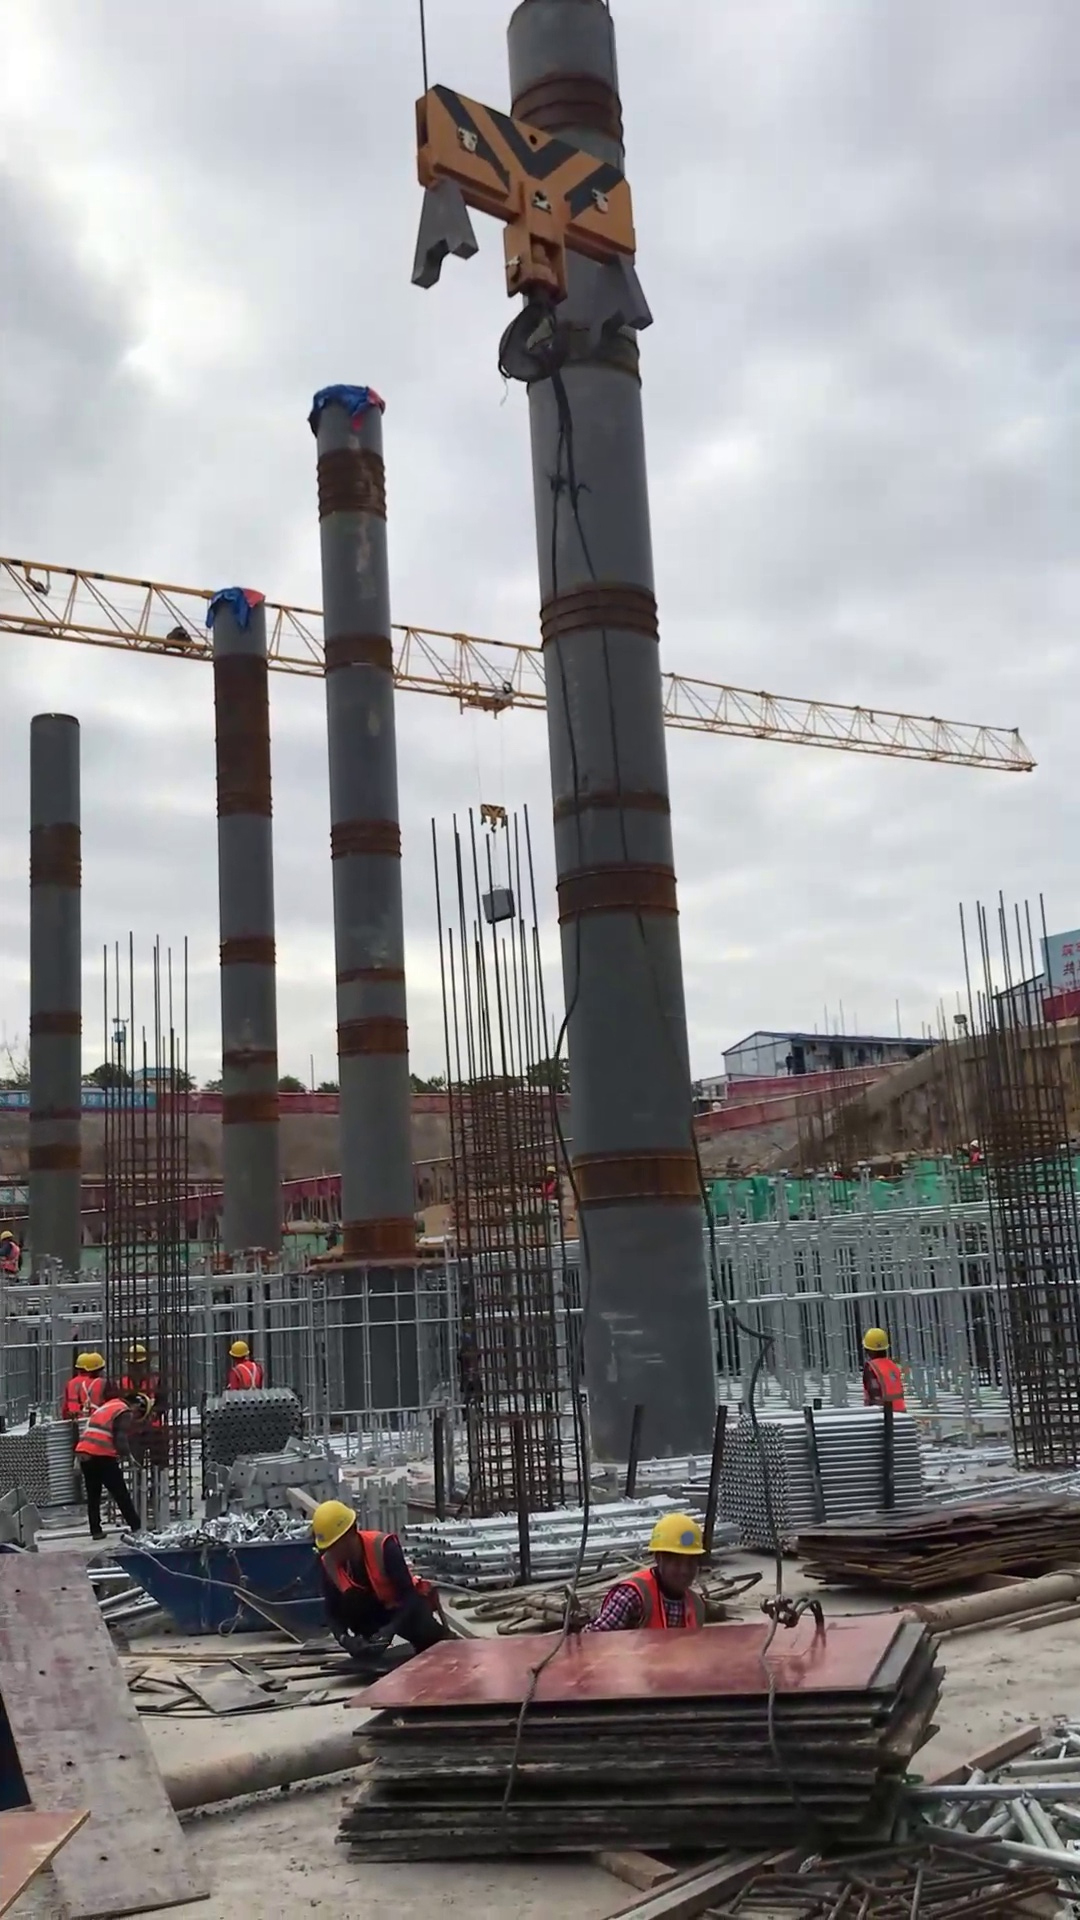board: (323, 1598, 956, 1872), (785, 1489, 1080, 1608)
helmet: (632, 1501, 710, 1568), (307, 1492, 362, 1560), (858, 1324, 900, 1365), (219, 1336, 257, 1368), (72, 1350, 107, 1381)
hook: (395, 79, 673, 384), (478, 796, 511, 839)
hopper: (111, 1534, 311, 1629)
person: (286, 1489, 462, 1672), (578, 1510, 735, 1646), (75, 1389, 161, 1543), (849, 1314, 917, 1424), (211, 1331, 271, 1401), (62, 1344, 111, 1426)
scaffold: (711, 1398, 949, 1558)
vest: (318, 1531, 437, 1621), (600, 1568, 707, 1633), (82, 1394, 133, 1471), (861, 1357, 910, 1418), (64, 1371, 108, 1422), (222, 1363, 264, 1394)
